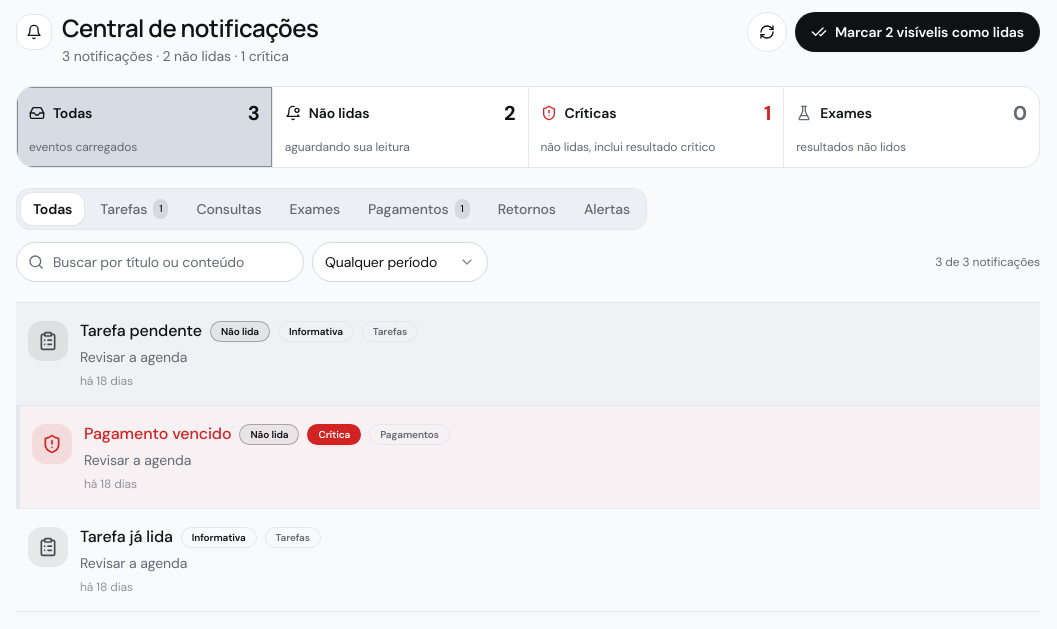
Test: CentralNotificacoes — leitura em lote › mantém filtros rápidos explícitos e aplica o filtro crítico
What coordinates should you click on to do the following:
click the button "Críticas 1 não lidas, inclui resultado crítico"
I would click on:
 (656, 127)
Its box is [528,87,783,167].
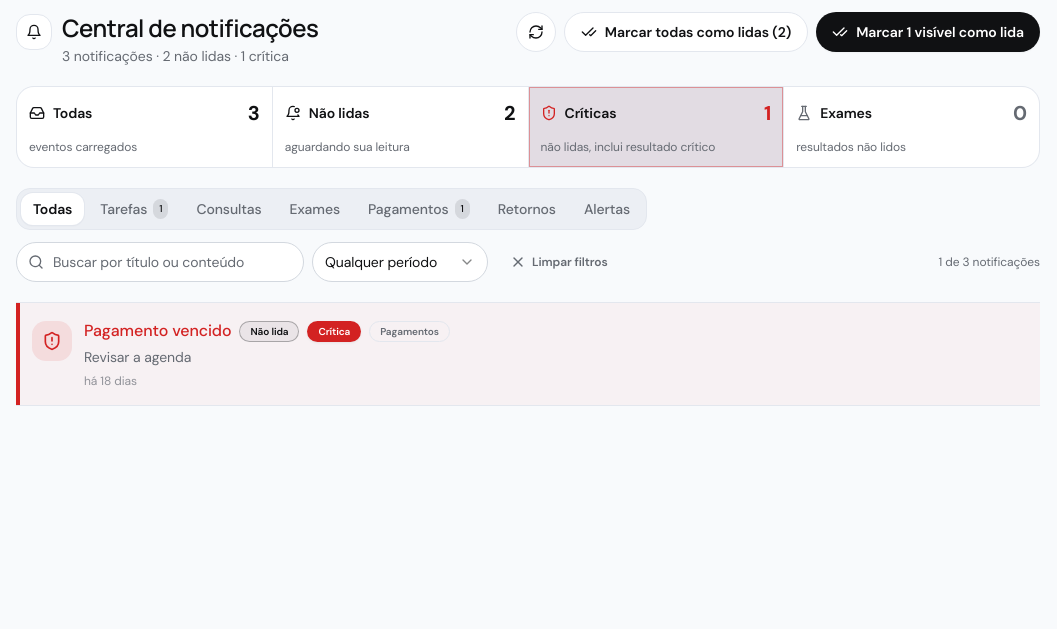
Check: the button "Pagamento vencido" is shown, box [16,303,1040,405]
Check: the text "1 de 3 notificações" is shown, box [938,254,1040,270]
Check: the button "Tarefa pendente" is gone
